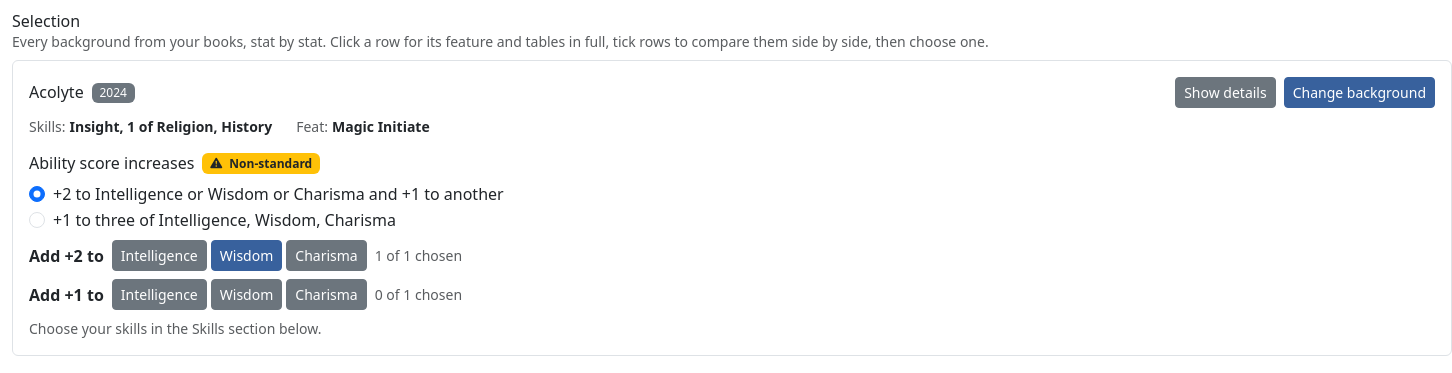
Test case: BackgroundSelection › names the race without its edition while the races are not loaded
Hover over the element showing "Non-standard" at (261, 164), box [202, 153, 320, 174]
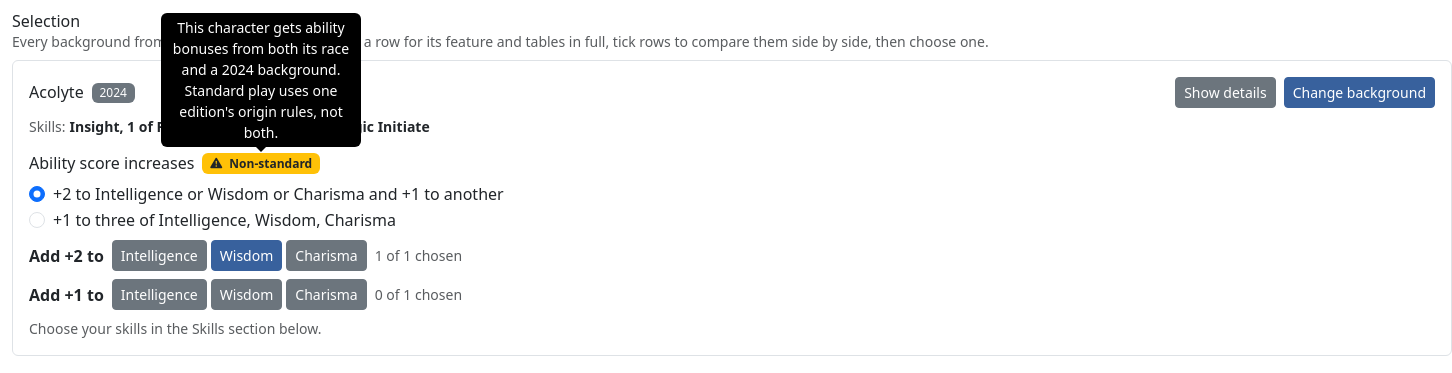
Expected: the tooltip shows "from both its race and a 2024 background.", [173, 18, 349, 142]
